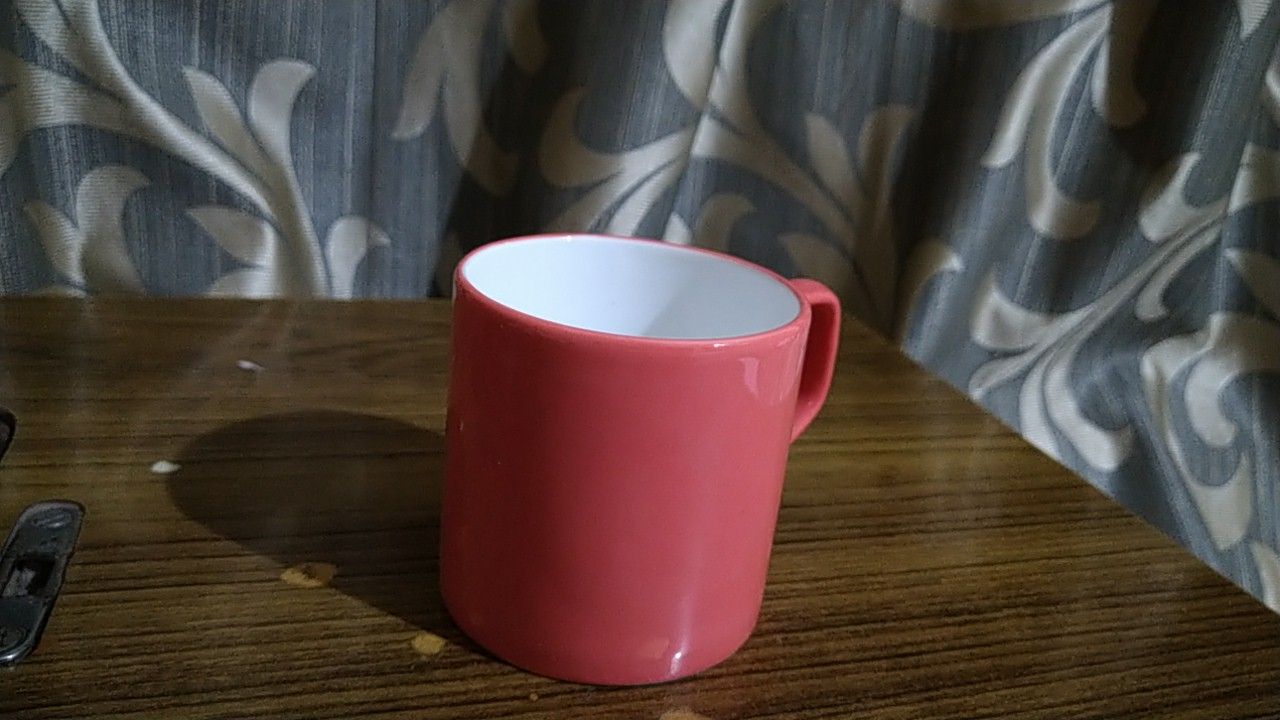cup: (414, 221, 872, 702)
